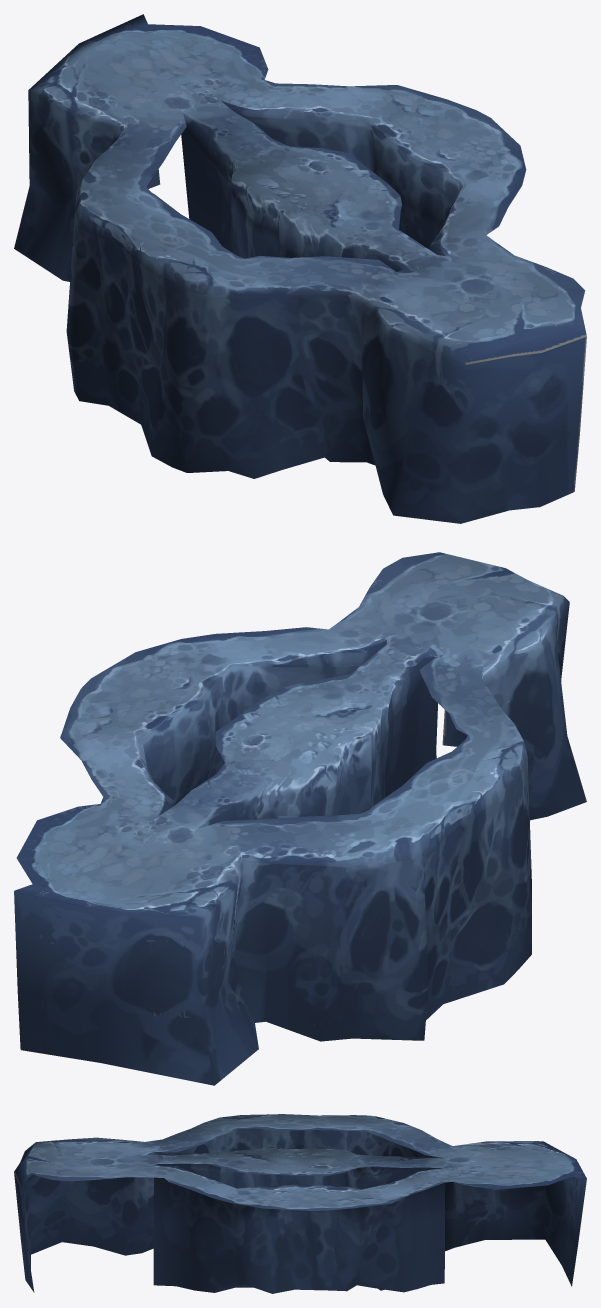
File: SM_terrain_v2_PLAT.FBX
3 renders of one model, top to bottom at view 1: azimuth 30°, elevation 25°; view 2: azimuth 150°, elevation 25°; view 3: azimuth 270°, elevation 25°, orthographic. The views are drawn at different scales.
Parts seen in each view (by area): view 1: Plane001; view 2: Plane001; view 3: Plane001.
Part boxes in pixels (left/top/right/bottom): Plane001: left=14, top=14, right=586, bottom=523; Plane001: left=14, top=552, right=586, bottom=1085; Plane001: left=14, top=1114, right=586, bottom=1293.
Size of the model in its own units: 51.44 by 30.55 by 105.
